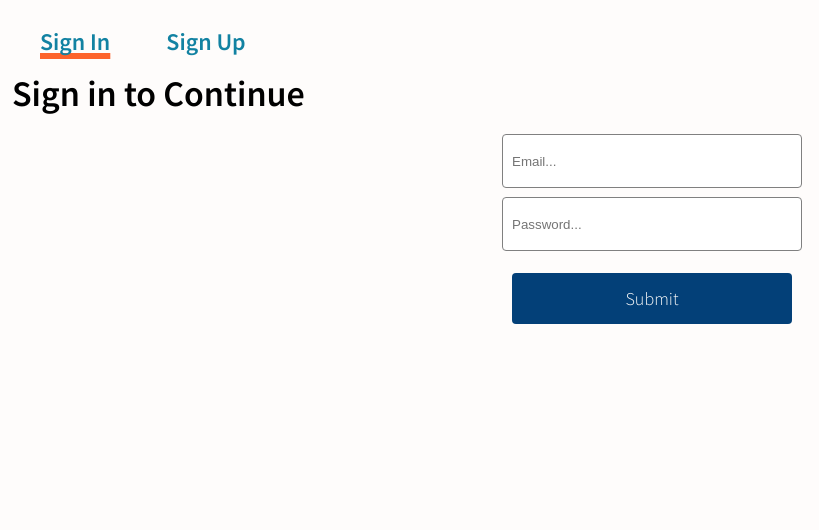
LoginForm tests › does not show when Sign Up button is clicked
The image size is (819, 530).
Click the button "Sign Up". click: (206, 42)
box: [138,12,274,71]
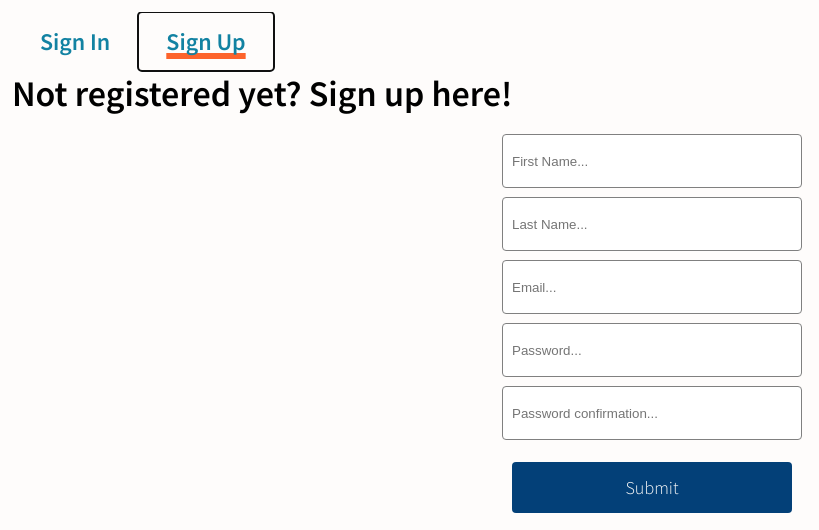
expect the heading "Sign in to Continue" is gone: met
